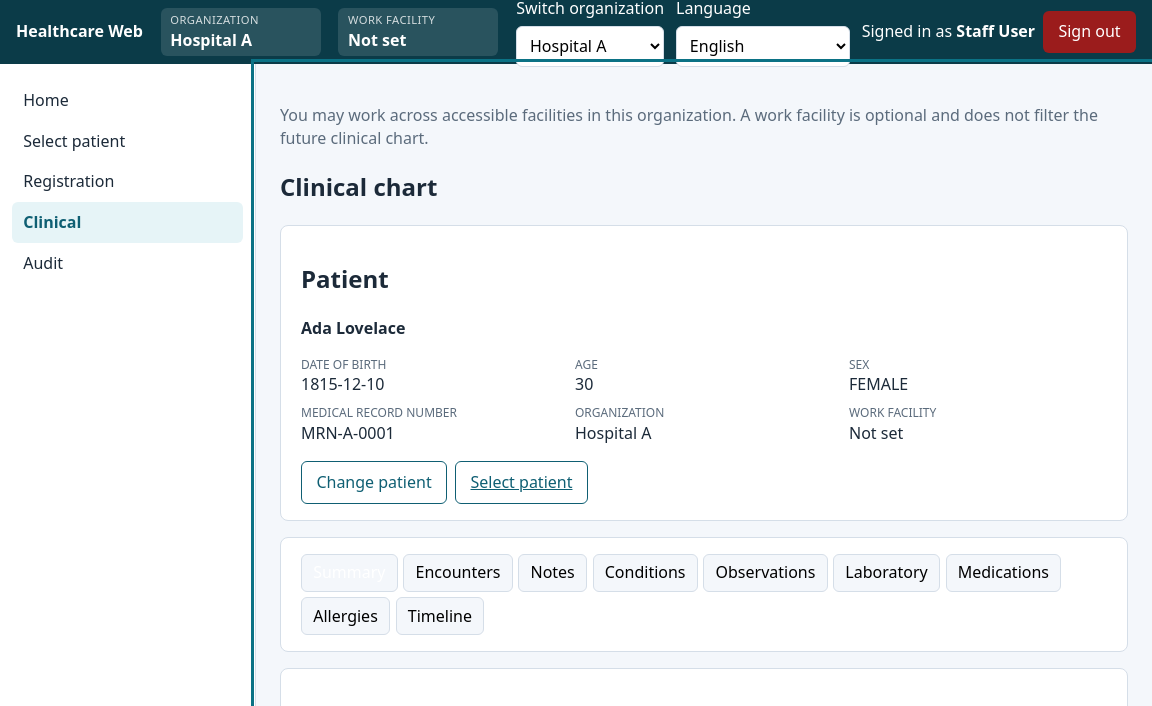
it: clinical chart PHI wipe and cache keys › wipes previous-org clinical PHI on organization switch even if B context fails
This screenshot has width=1152, height=706.
Step 1. Select "Hospital B" in the dropdown labelled "Switch organization" → (590, 46), box [516,26,664,67]
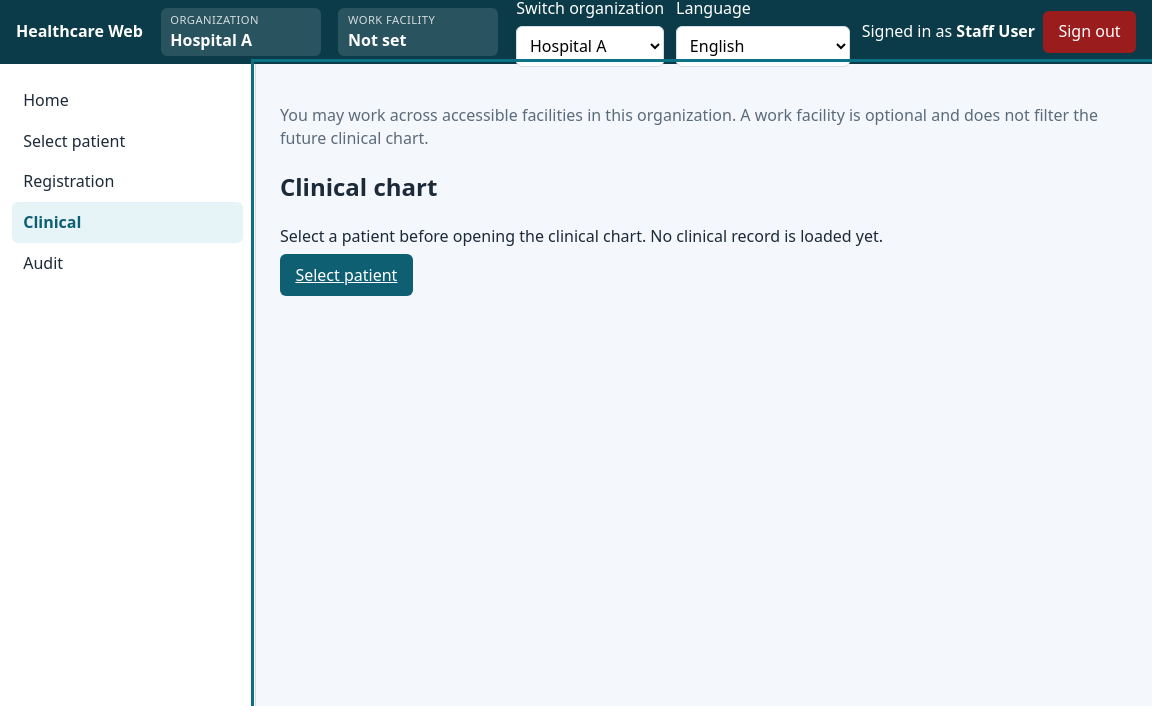
Result: the text "Ada" is gone
